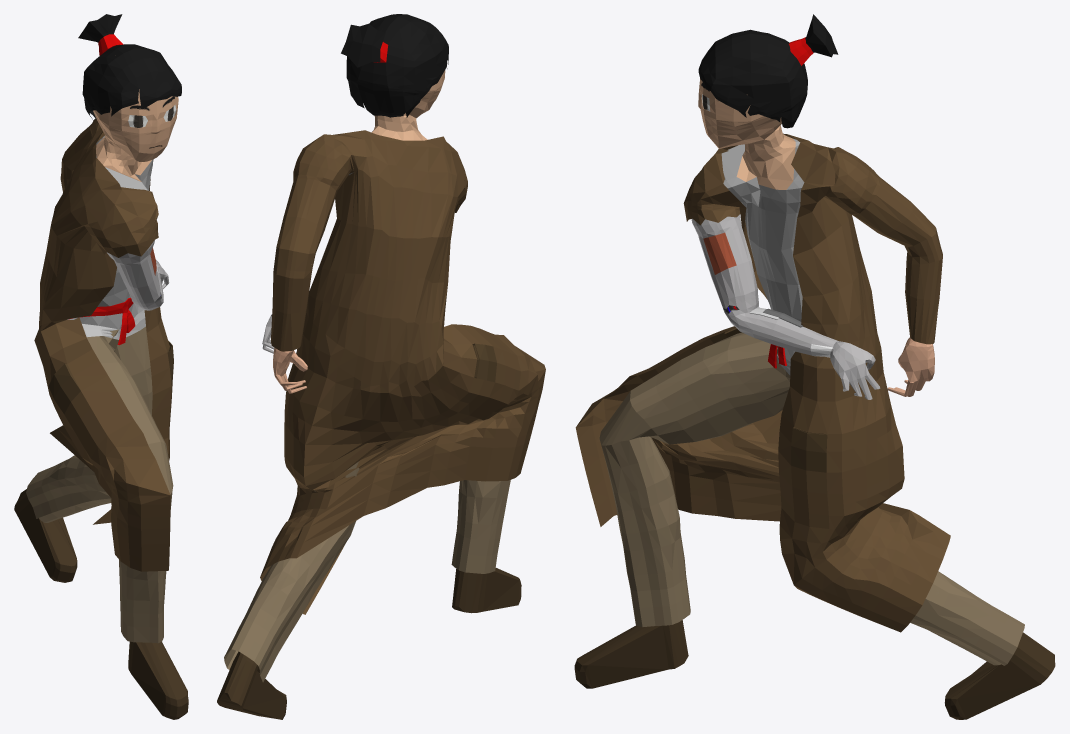
The model's file is OneAnimationTest_000000.obj.
3 views of the same model, side by side, from view 1: azimuth 30°, elevation 25°; view 2: azimuth 150°, elevation 25°; view 3: azimuth 270°, elevation 25° (orthographic). The views are drawn at different scales.
Parts seen in each view (by area): view 1: Jacket_Cube, Body_Cube.003, Hair_Cube.004; view 2: Jacket_Cube, Body_Cube.003, Hair_Cube.004; view 3: Jacket_Cube, Body_Cube.003, Hair_Cube.004.
Part boxes in pixels (<box>): Jacket_Cube: <box>34,118,173,571</box>; Body_Cube.003: <box>14,89,188,719</box>; Hair_Cube.004: <box>78,14,181,120</box>; Jacket_Cube: <box>260,130,545,614</box>; Body_Cube.003: <box>217,70,521,719</box>; Hair_Cube.004: <box>341,14,448,117</box>; Jacket_Cube: <box>575,133,950,632</box>; Body_Cube.003: <box>574,78,1055,719</box>; Hair_Cube.004: <box>698,14,838,128</box>.
Bounding box in the file's own units: 0.9559 × 3.54 × 2.25.
3 materials, 3 textured.
